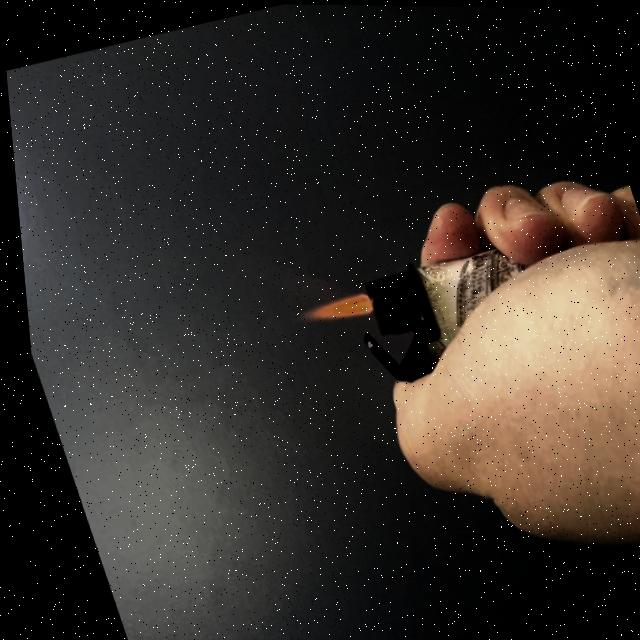Fire: (278, 280, 374, 335)
